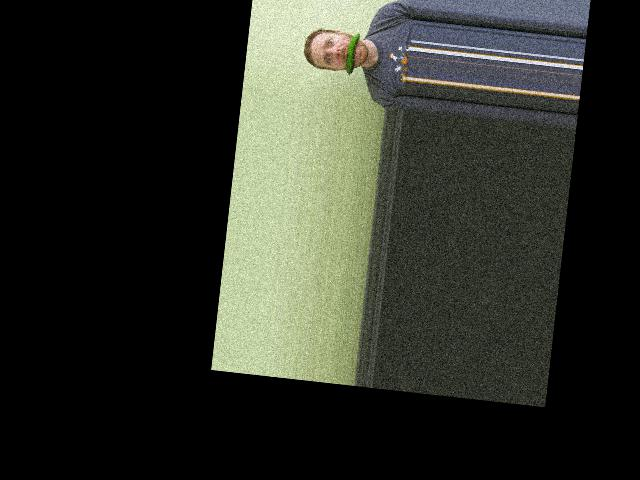cucumber: (345, 32, 360, 76)
